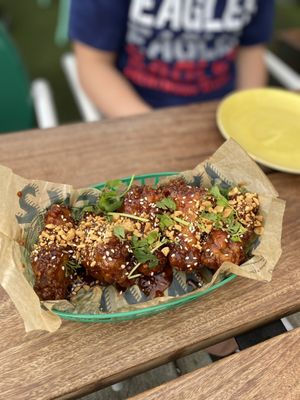sushi: (5, 142, 271, 323), (215, 85, 300, 175)
